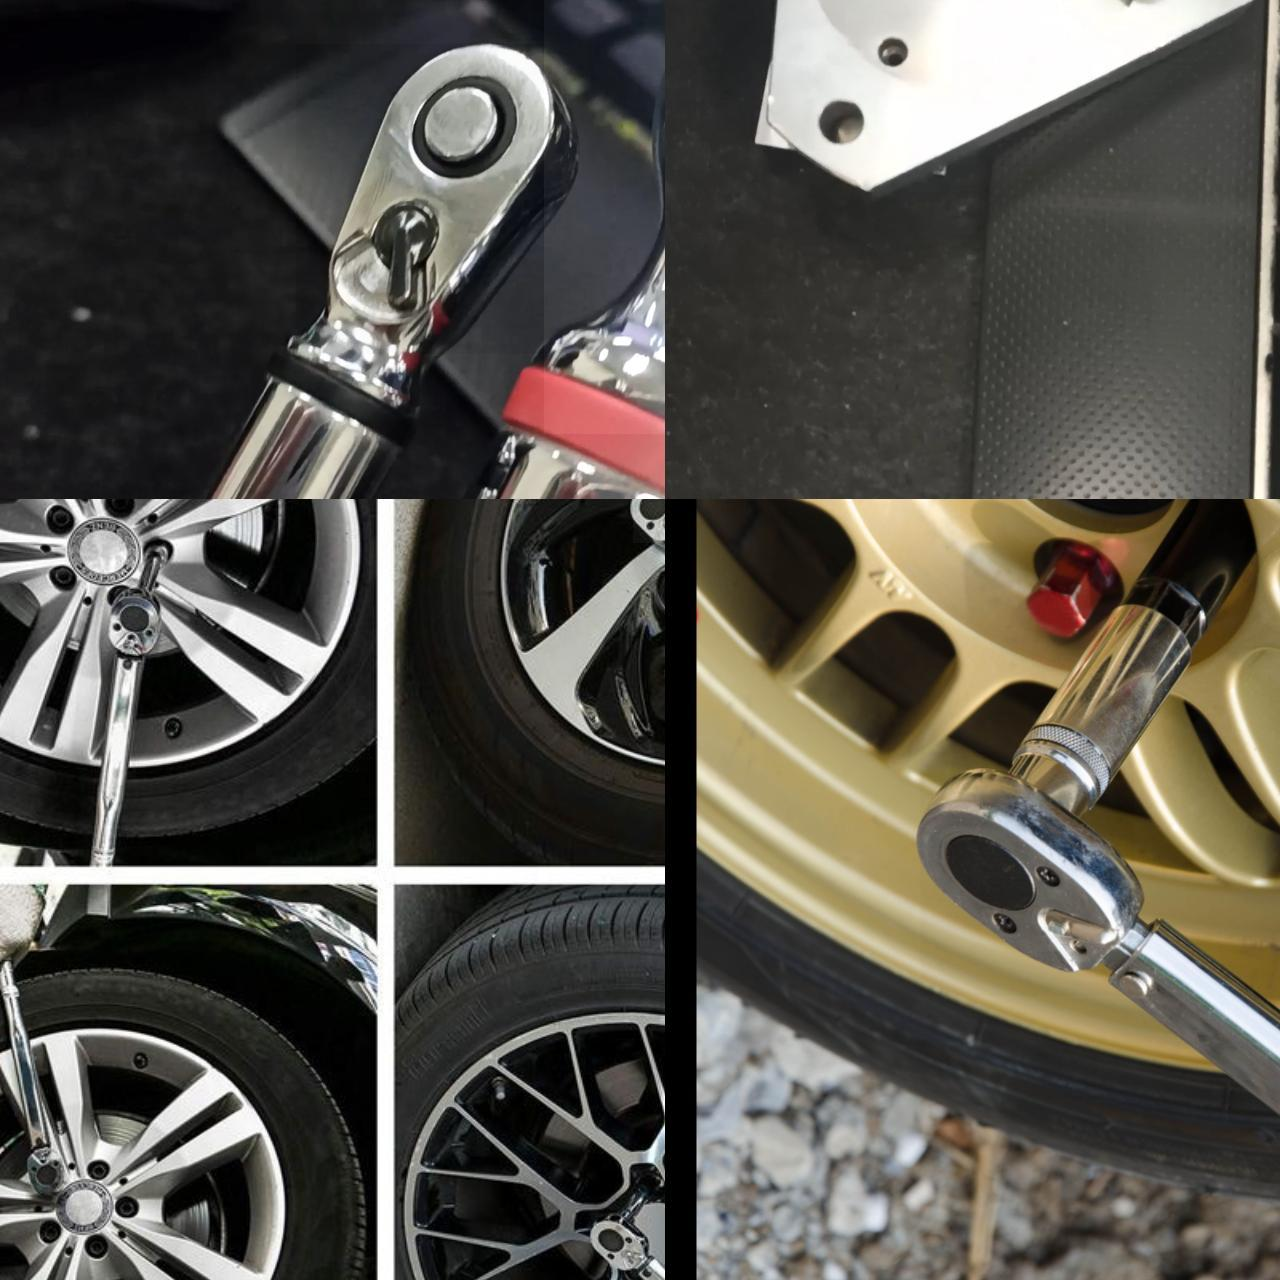Tool: (297, 43, 561, 353), (544, 0, 665, 433), (920, 751, 1133, 995), (588, 1216, 648, 1274), (108, 588, 161, 652), (21, 1142, 67, 1192), (633, 499, 665, 542)
